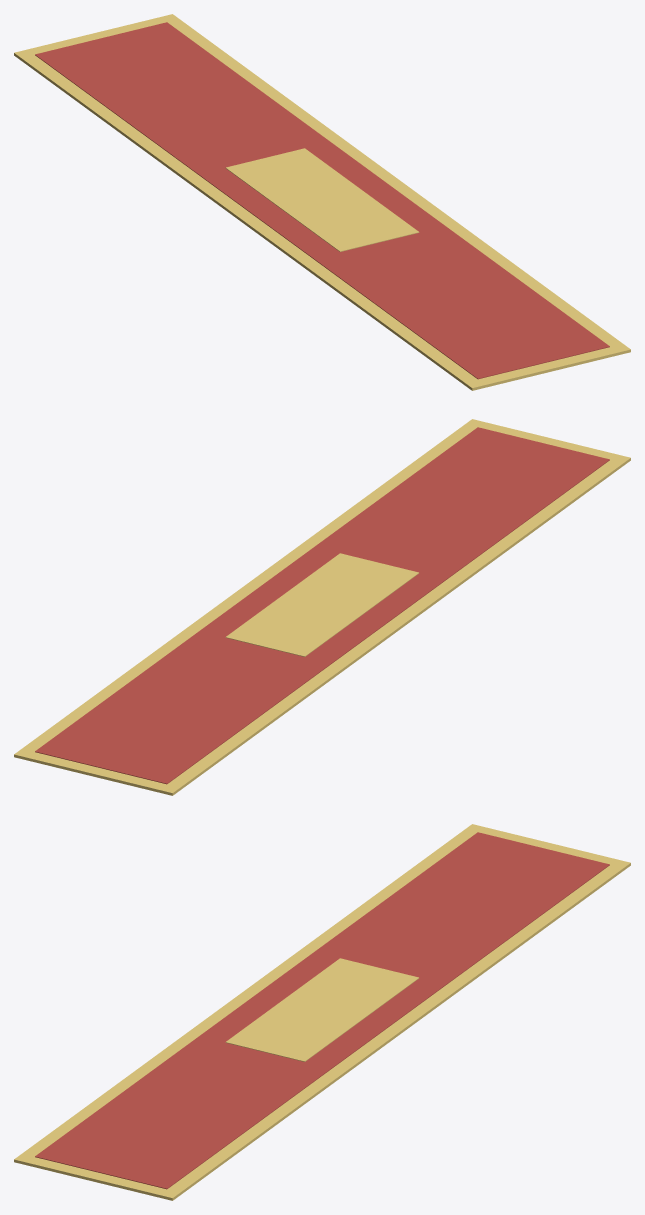
File: rug_runner.glb
3 renders of one model, top to bottom at view 1: azimuth 30°, elevation 25°; view 2: azimuth 150°, elevation 25°; view 3: azimuth 330°, elevation 25°, orthographic.
Visible parts, largest first — view 1: rug_runner; view 2: rug_runner; view 3: rug_runner.
Part boxes in pixels (x1,y1,x2,y2): rug_runner: (14, 14, 630, 390); rug_runner: (14, 419, 630, 795); rug_runner: (14, 824, 630, 1200).
Size of the model in its own units: 1.2 by 0.03 by 6.
